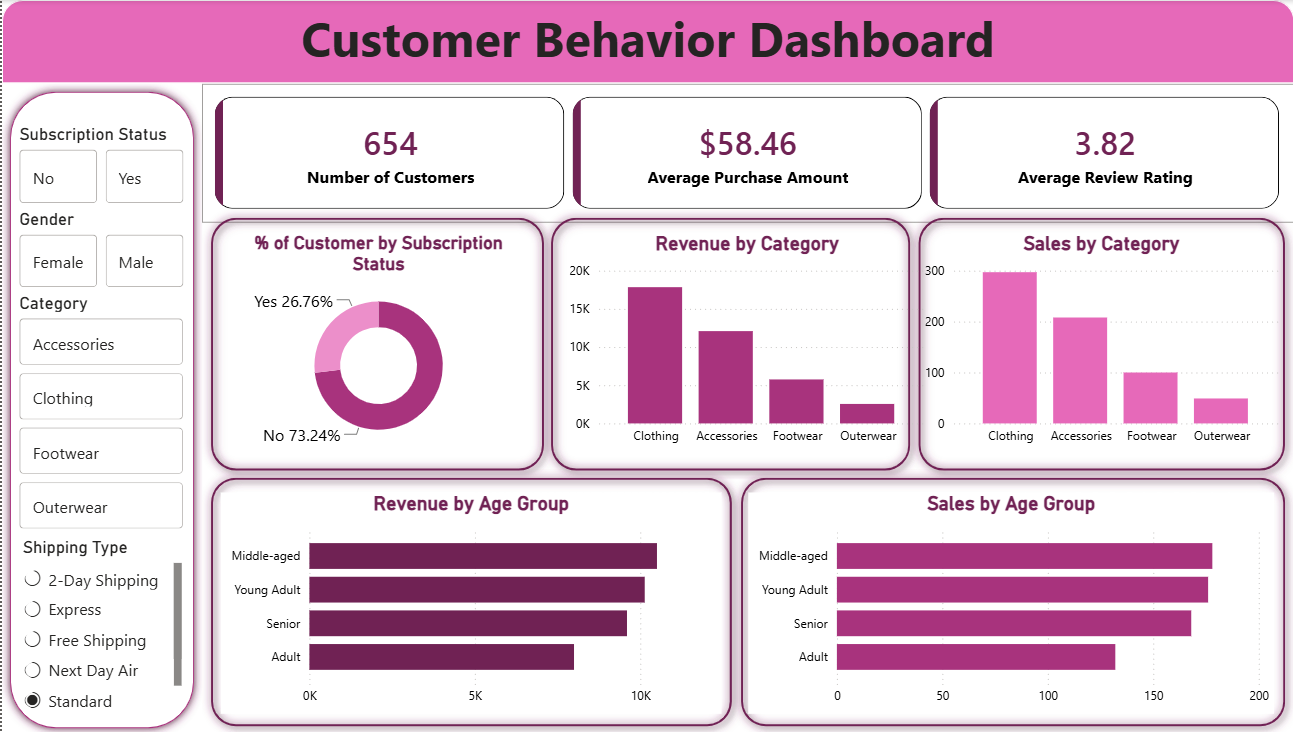

The dashboard page shown, as its layout file describes it:
{"tool":"powerbi","page":{"name":"Page 1","canvas":[1280,729],"ordinal":0},"visuals":[{"type":"cardVisual","fields":{"Data":["customer_behavior customer_shopping_behavior.Number of Customers","customer_behavior customer_shopping_behavior.Average Purchase Amount","customer_behavior customer_shopping_behavior.Average Review Rating"]},"box":[198.1,83,1082.1,137.4],"z":0},{"type":"shape","box":[0,0,1280,82.5],"z":1000},{"type":"textbox","box":[0,0,1280,82.5],"z":2000},{"type":"shape","box":[0,83,198.1,646.3],"z":3000},{"type":"advancedSlicerVisual","fields":{"Values":["customer_behavior customer_shopping_behavior.subscription_status"]},"box":[12.4,122.6,172.1,84.2],"z":4000},{"type":"advancedSlicerVisual","fields":{"Values":["customer_behavior customer_shopping_behavior.gender"]},"box":[12.4,206.8,172.1,83],"z":5000},{"type":"advancedSlicerVisual","fields":{"Values":["customer_behavior customer_shopping_behavior.category"]},"box":[12.4,289.7,172.1,241.4],"z":6000},{"type":"listSlicer","fields":{"Values":["customer_behavior customer_shopping_behavior.shipping_type"]},"box":[14.9,531.2,169.6,175.8],"z":7000},{"type":"donutChart","title":"% of Customer by Subscription Status","fields":{"Y":["CountNonNull(customer_behavior customer_shopping_behavior.customer_id)"],"Category":["customer_behavior customer_shopping_behavior.subscription_status"]},"box":[199.1,230.8,347.7,219.3],"z":8000},{"type":"shape","box":[197.7,206.3,347.7,268.4],"z":9000},{"type":"shape","box":[535.3,206.3,373.7,268.4],"z":10000},{"type":"shape","box":[898.8,206.3,380.9,268.4],"z":11000},{"type":"clusteredColumnChart","title":"Revenue by Category","fields":{"Y":["Sum(customer_behavior customer_shopping_behavior.purchase_amount)"],"Category":["customer_behavior customer_shopping_behavior.category"]},"box":[556.9,230.8,362.1,219.3],"z":11001},{"type":"clusteredColumnChart","title":"Sales by Category","fields":{"Category":["customer_behavior customer_shopping_behavior.category"],"Y":["CountNonNull(customer_behavior customer_shopping_behavior.customer_id)"]},"box":[908.9,230.8,360.7,219.3],"z":11002},{"type":"shape","box":[722.8,464.6,556.9,264],"z":11003},{"type":"shape","box":[197.7,464.6,533.8,264],"z":11004},{"type":"clusteredBarChart","title":"Revenue by Age Group","fields":{"Category":["customer_behavior customer_shopping_behavior.age_group"],"Y":["Sum(customer_behavior customer_shopping_behavior.purchase_amount)"]},"box":[216.4,487.7,496.3,219.3],"z":11005},{"type":"clusteredBarChart","title":"Sales by Age Group","fields":{"Category":["customer_behavior customer_shopping_behavior.age_group"],"Y":["CountNonNull(customer_behavior customer_shopping_behavior.customer_id)"]},"box":[738.7,487.7,520.8,219.3],"z":11006}]}

Visuals, with their boxes in screenshot pixels (x1, y1, x2, y2), scaled from the page's 1280x729 canvas onto the 1293x732 screenshot:
cardVisual - customer_behavior customer_shopping_behavior.Number of Customers x customer_behavior customer_shopping_behavior.Average Purchase Amount: detection(200, 83, 1292, 221)
shape: detection(0, 0, 1292, 83)
textbox: detection(0, 0, 1292, 83)
shape: detection(0, 83, 200, 731)
advancedSlicerVisual - customer_behavior customer_shopping_behavior.subscription_status: detection(13, 123, 186, 208)
advancedSlicerVisual - customer_behavior customer_shopping_behavior.gender: detection(13, 208, 186, 291)
advancedSlicerVisual - customer_behavior customer_shopping_behavior.category: detection(13, 291, 186, 533)
listSlicer - customer_behavior customer_shopping_behavior.shipping_type: detection(15, 533, 186, 710)
"% of Customer by Subscription Status" donutChart: detection(201, 232, 552, 452)
shape: detection(200, 207, 551, 477)
shape: detection(541, 207, 918, 477)
shape: detection(908, 207, 1292, 477)
"Revenue by Category" clusteredColumnChart: detection(563, 232, 928, 452)
"Sales by Category" clusteredColumnChart: detection(918, 232, 1282, 452)
shape: detection(730, 467, 1292, 731)
shape: detection(200, 467, 739, 731)
"Revenue by Age Group" clusteredBarChart: detection(219, 490, 720, 710)
"Sales by Age Group" clusteredBarChart: detection(746, 490, 1272, 710)
